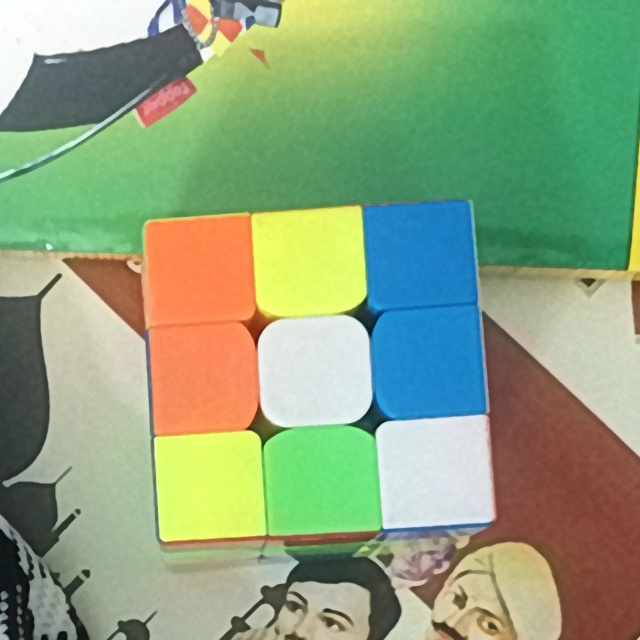tile: (260, 216, 357, 306), (389, 426, 485, 515), (153, 225, 246, 315), (155, 331, 246, 422), (373, 211, 467, 299), (164, 440, 256, 529), (277, 439, 370, 526), (268, 330, 362, 416), (386, 320, 476, 408)
